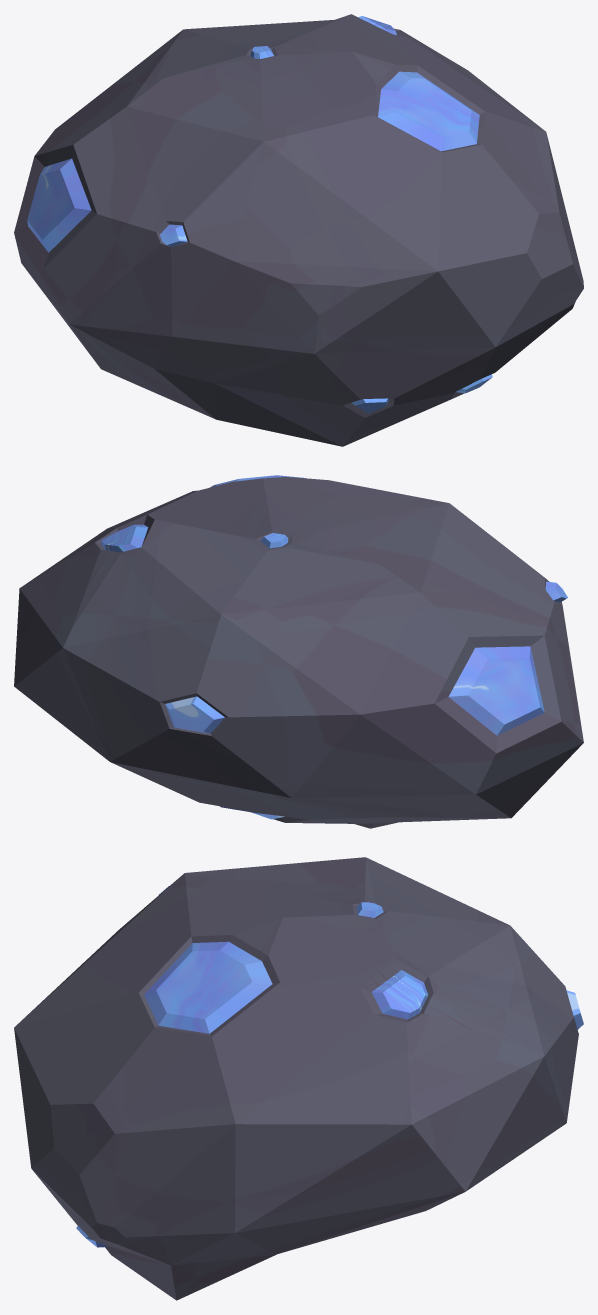
The picture shows the model from 3 angles, top to bottom: view 1: azimuth 30°, elevation 25°; view 2: azimuth 150°, elevation 25°; view 3: azimuth 270°, elevation 25°; orthographic projection. The views are drawn at different scales.
Parts seen in each view (by area): view 1: метиорит.005; view 2: метиорит.005; view 3: метиорит.005.
Part boxes in pixels (<box>): метиорит.005: <box>14,14,583,446</box>; метиорит.005: <box>14,475,583,828</box>; метиорит.005: <box>14,857,583,1300</box>.
Size of the model in its own units: 259 by 177 by 243.
